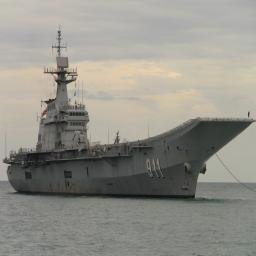Portanaves: (4, 15, 253, 206)
